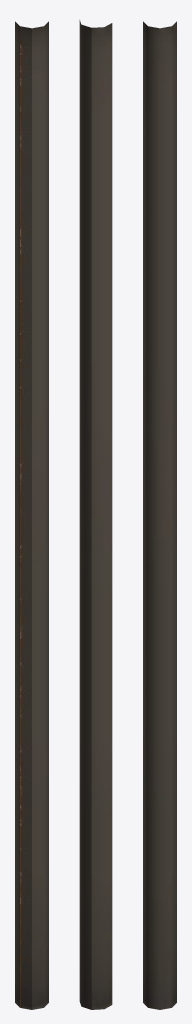
Rendered from SM_Fan_Stem_01.glb.
The picture shows the model from 3 angles, left to right: view 1: azimuth 90°, elevation 25°; view 2: azimuth 210°, elevation 25°; view 3: azimuth 270°, elevation 25°; orthographic projection.
Visible parts, largest first — view 1: SM_Fan_Stem_01; view 2: SM_Fan_Stem_01; view 3: SM_Fan_Stem_01.
Boxes of the visible parts, x1,y1,x2,y2 form: SM_Fan_Stem_01: (15,21,48,1009); SM_Fan_Stem_01: (79,20,112,1009); SM_Fan_Stem_01: (143,21,176,1009).
Bounding box in the file's own units: 0.0195 × 0.6246 × 0.0195.
Materials: 1 (1 with a texture image).
